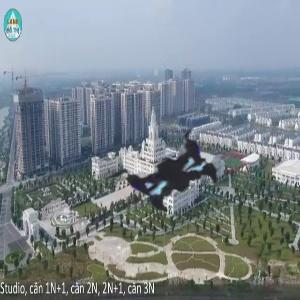drone: (64, 64, 277, 277)
